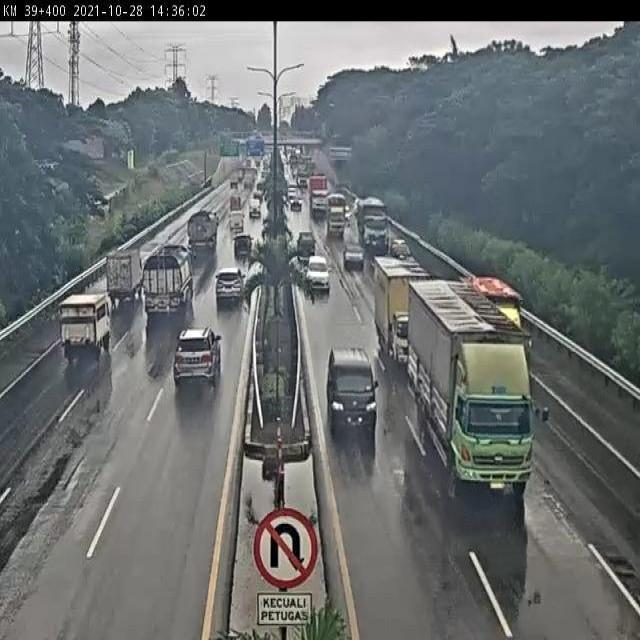big truck: (405, 276, 519, 473), (140, 252, 195, 320), (186, 205, 220, 259), (356, 200, 388, 256)
car: (322, 344, 383, 427), (163, 324, 225, 396), (97, 252, 135, 307), (212, 273, 245, 319), (301, 247, 329, 288), (293, 225, 320, 256), (341, 236, 364, 267), (341, 400, 342, 415)
small truck: (455, 268, 532, 332), (52, 295, 107, 369), (371, 254, 410, 354), (323, 192, 350, 237)
